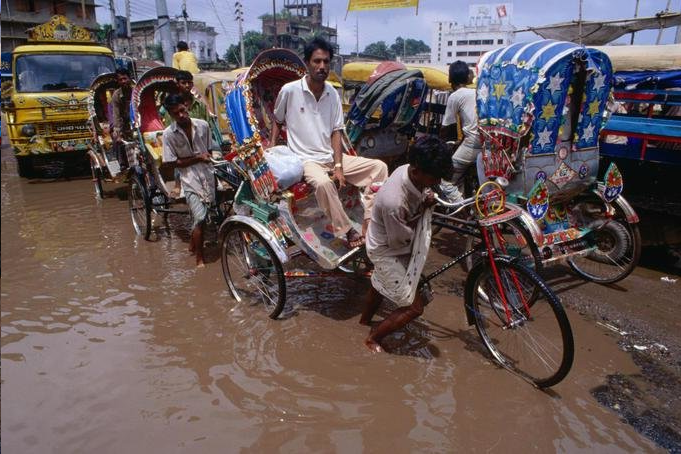Rickshaw: (423, 25, 635, 386), (218, 46, 390, 337), (124, 58, 247, 246), (82, 63, 144, 221), (332, 44, 410, 163)
